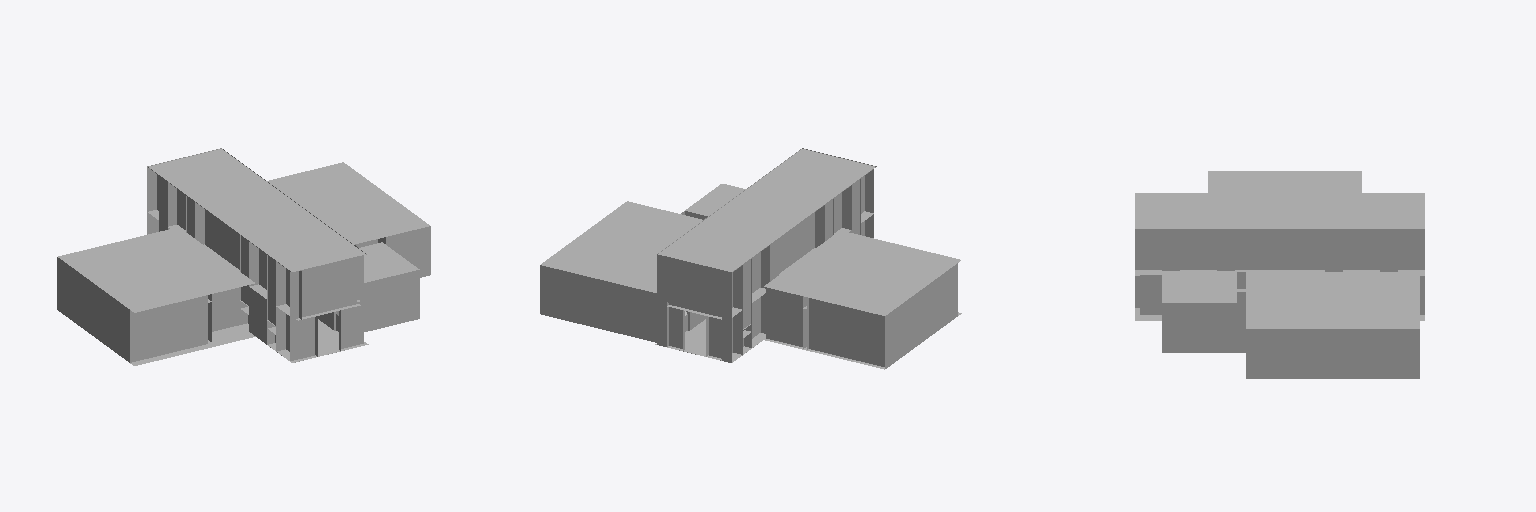
File: LC_cont2_scps3.obj
3 views of the same model, side by side, from view 1: azimuth 30°, elevation 25°; view 2: azimuth 150°, elevation 25°; view 3: azimuth 270°, elevation 25° (orthographic).
Visible parts, largest first — view 1: LC_cont2_scps3; view 2: LC_cont2_scps3; view 3: LC_cont2_scps3.
Part boxes in pixels (x1,y1,x2,y2): LC_cont2_scps3: (57, 148, 430, 365); LC_cont2_scps3: (540, 148, 961, 369); LC_cont2_scps3: (1135, 171, 1424, 378).
Bounding box in the file's own units: 25.15 × 6.92 × 20.